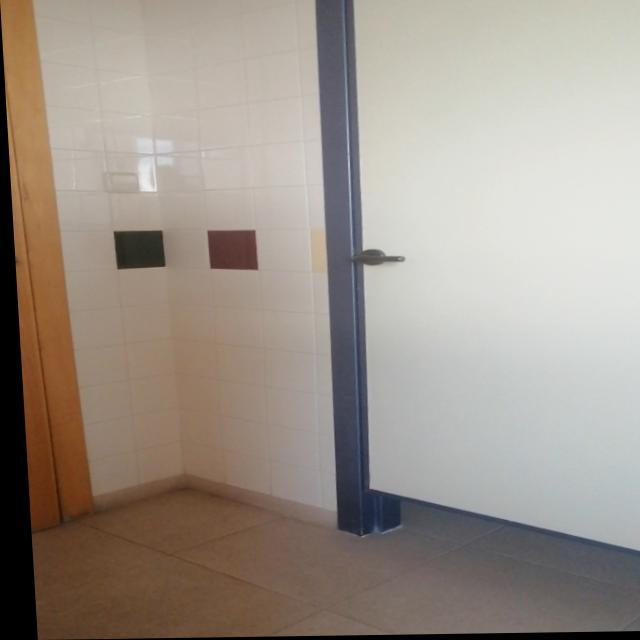door_handle: (348, 255, 404, 267)
